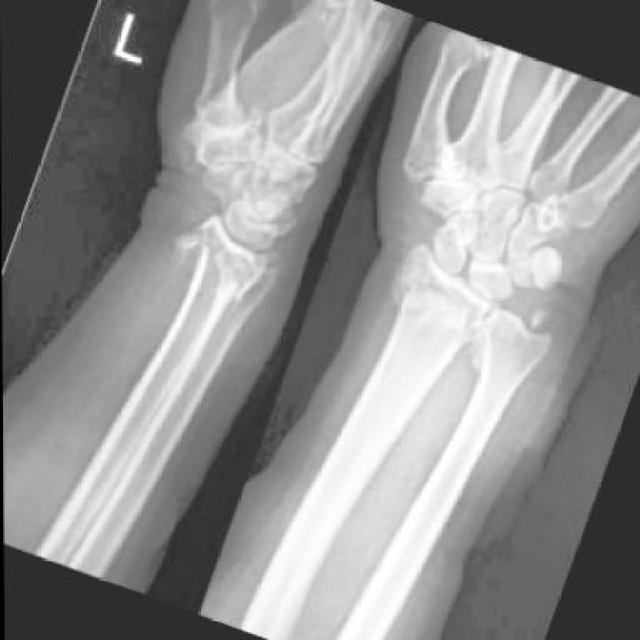Fracture: (380, 240, 516, 354), (165, 211, 270, 304), (254, 245, 287, 274), (526, 303, 556, 334)
